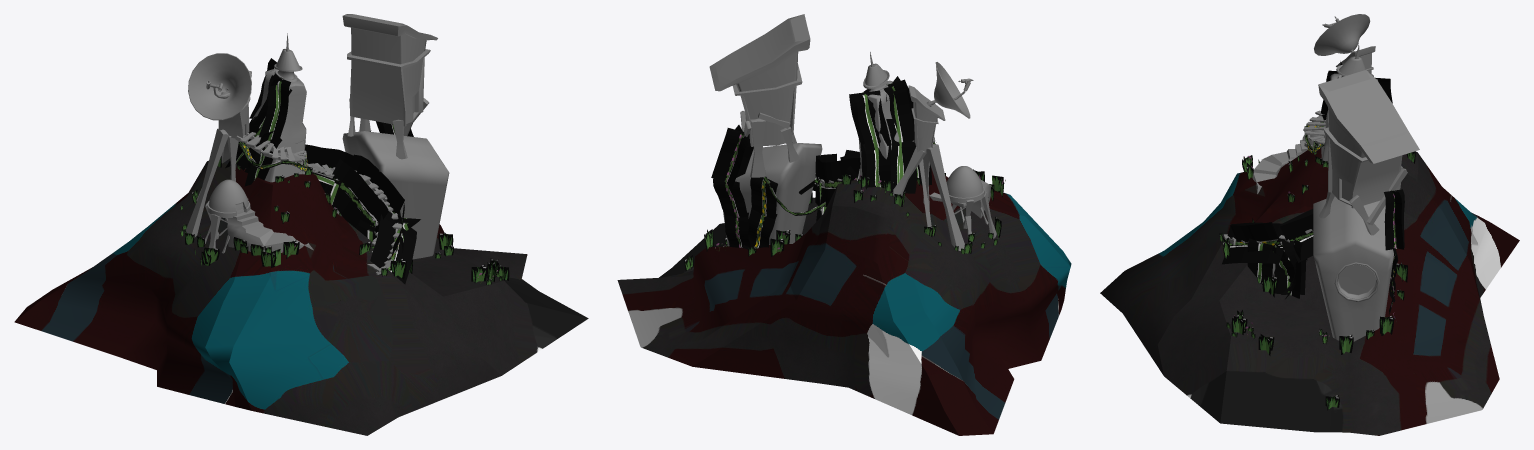
File: Precarious Buildings1.obj
3 views of the same model, side by side, from view 1: azimuth 30°, elevation 25°; view 2: azimuth 150°, elevation 25°; view 3: azimuth 270°, elevation 25° (orthographic). The views are drawn at different scales.
Parts seen in each view (by area): view 1: Land House, House House_4 Houses, House Houses House2, House Satelite_Part_1_Geo Satelite, House Ferns Fern_V7, House Houses Main_House_main Main_House, House Houses EEGoo_House_1 EEGoo_House_3, House Ferns Fern_V3, House Houses EEGoo_House_2 EEGoo_House_1, House Planks Plank_Number_20, House Ferns Fern15, House Ferns Fern_V4 (+4 smaller); view 2: Land House, House House_4 Houses, House Houses House2, House Ferns Fern16, House Ferns Fern13, House Ferns Fern17, House Ferns Fern11, House Houses House_3 House_3, House Planks Plank_Number_20, House Ferns Fern19, House Houses EEGoo_House_2 EEGoo_House_1, House Ferns Fern_V6 (+8 smaller); view 3: Land House, House House_4 Houses, House Houses House2, House Satelite_Part_1_Geo Satelite, House Ferns Fern_V3, House Houses EEGoo_House_1 EEGoo_House_3, House Ferns Fern_V2, House Ferns Fern18, House Ferns Fern_V4, House Ferns Fern5, House Fern Ferns, House Ferns Fern_V5 (+3 smaller).
Boxes of the visible parts, x1,y1,x2,y2 form: Land House: (14, 158, 588, 435); House House_4 Houses: (342, 14, 437, 126); House Houses House2: (342, 131, 449, 259); House Satelite_Part_1_Geo Satelite: (188, 53, 251, 120); House Ferns Fern_V7: (324, 158, 388, 228); House Houses Main_House_main Main_House: (245, 69, 306, 182); House Houses EEGoo_House_1 EEGoo_House_3: (227, 209, 313, 252); House Ferns Fern_V3: (370, 211, 416, 284); House Houses EEGoo_House_2 EEGoo_House_1: (207, 179, 250, 217); House Planks Plank_Number_20: (185, 128, 228, 237); House Ferns Fern15: (244, 75, 290, 180); House Ferns Fern_V4: (353, 154, 404, 214); Land House: (617, 167, 1071, 435); House House_4 Houses: (709, 14, 810, 146); House Houses House2: (723, 143, 822, 246); House Ferns Fern16: (742, 177, 777, 249); House Ferns Fern13: (849, 90, 891, 188); House Ferns Fern17: (713, 177, 750, 248); House Ferns Fern11: (886, 82, 916, 193); House Houses House_3 House_3: (908, 85, 945, 152); House Planks Plank_Number_20: (926, 144, 964, 250); House Ferns Fern19: (711, 128, 753, 181); House Houses EEGoo_House_2 EEGoo_House_1: (946, 166, 984, 202); House Ferns Fern_V6: (816, 158, 860, 206); Land House: (1100, 145, 1519, 435); House House_4 Houses: (1318, 70, 1419, 208); House Houses House2: (1313, 196, 1393, 341); House Satelite_Part_1_Geo Satelite: (1314, 14, 1370, 55); House Ferns Fern_V3: (1222, 222, 1283, 264); House Houses EEGoo_House_1 EEGoo_House_3: (1252, 139, 1307, 193); House Ferns Fern_V2: (1230, 222, 1286, 258); House Ferns Fern18: (1384, 189, 1404, 250); House Ferns Fern_V4: (1280, 214, 1313, 240); House Ferns Fern5: (1247, 238, 1273, 294); House Fern Ferns: (1274, 238, 1306, 294); House Ferns Fern_V5: (1281, 209, 1313, 262).
Bounding box in the file's own units: 139 × 89.07 × 118.
